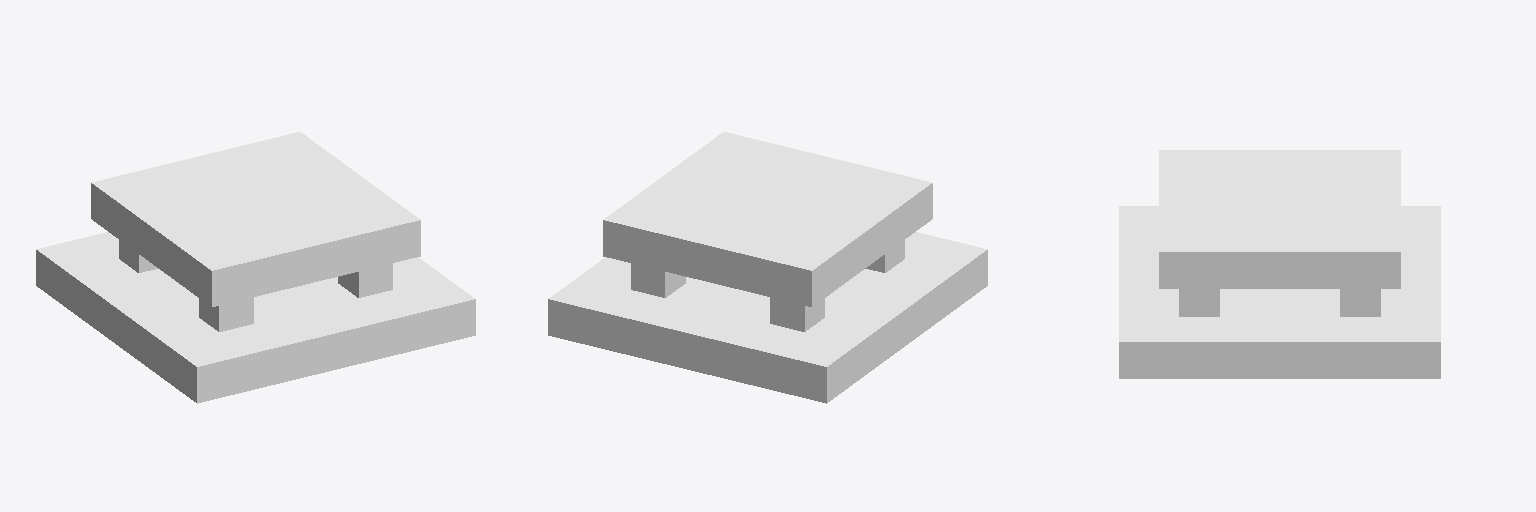
File: solarfarm.obj
3 renders of one model, left to right at view 1: azimuth 30°, elevation 25°; view 2: azimuth 150°, elevation 25°; view 3: azimuth 270°, elevation 25°, orthographic.
Visible parts, largest first — view 1: object 1; view 2: object 1; view 3: object 1.
Boxes of the visible parts, box(x1,y1,x2,y2) form: object 1: box(36, 132, 475, 403); object 1: box(548, 132, 987, 403); object 1: box(1119, 150, 1440, 378).
Bounding box in the file's own units: 1.6 × 0.6 × 1.6.